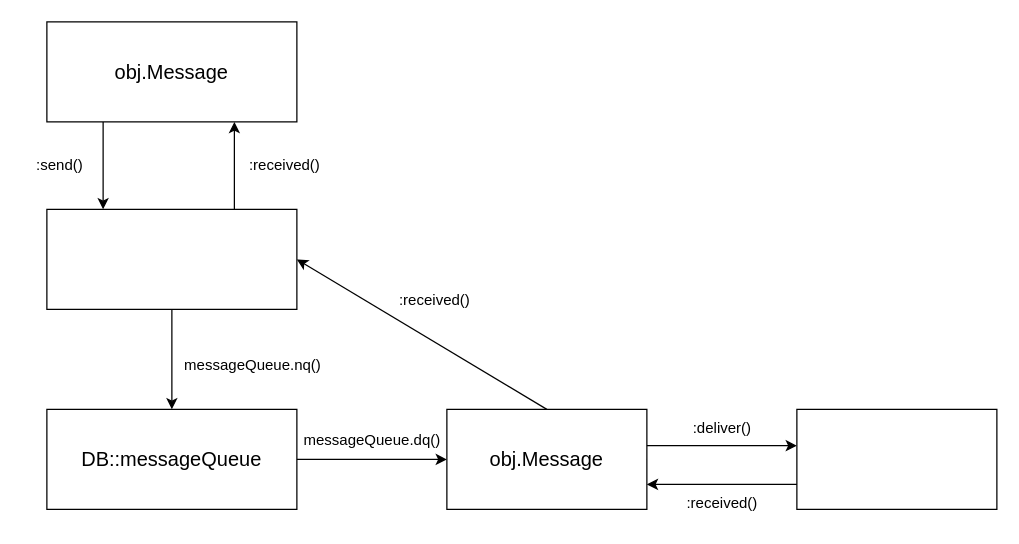
The diagram is 1019 pixels wide and 544 high, and some of its shapes have lost their labels. Each missing label, with the centre of its shape:
"::user" belongs at point (896, 458).
"server" belongs at point (171, 258).
